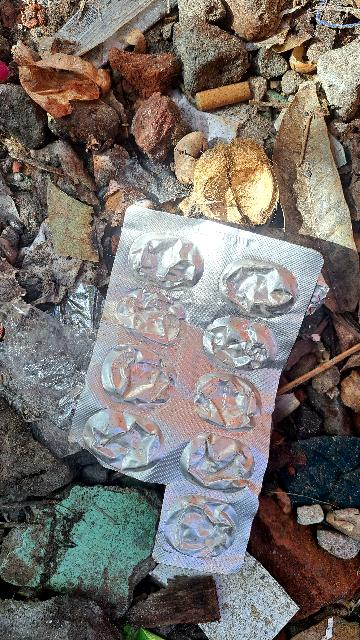medicine: (69, 201, 328, 569)
